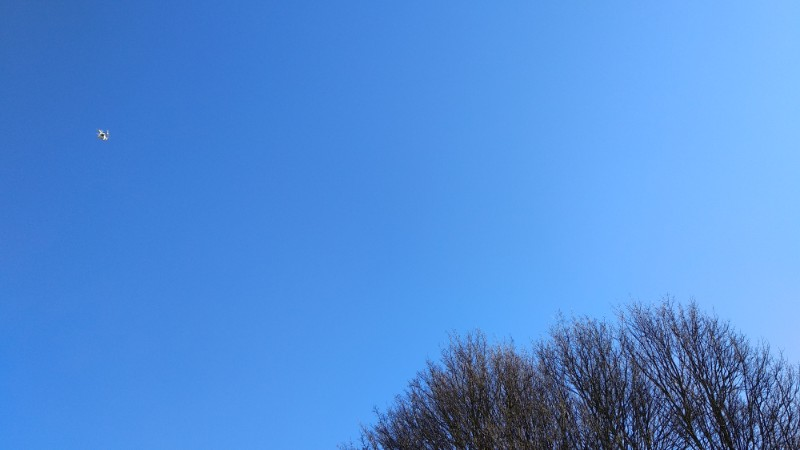drone: (95, 127, 110, 143)
